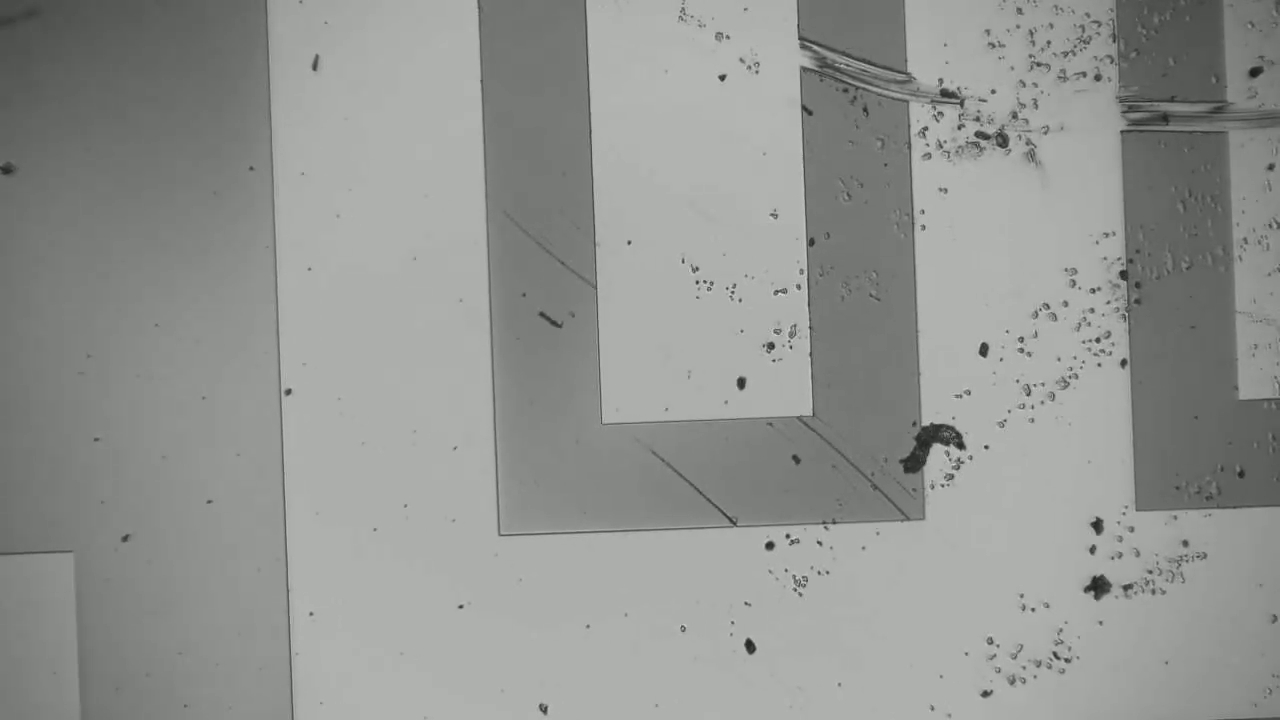Short_circuit: (771, 20, 934, 125), (1094, 79, 1255, 163)
scratch: (801, 424, 899, 514), (504, 208, 590, 296), (648, 446, 742, 519)
